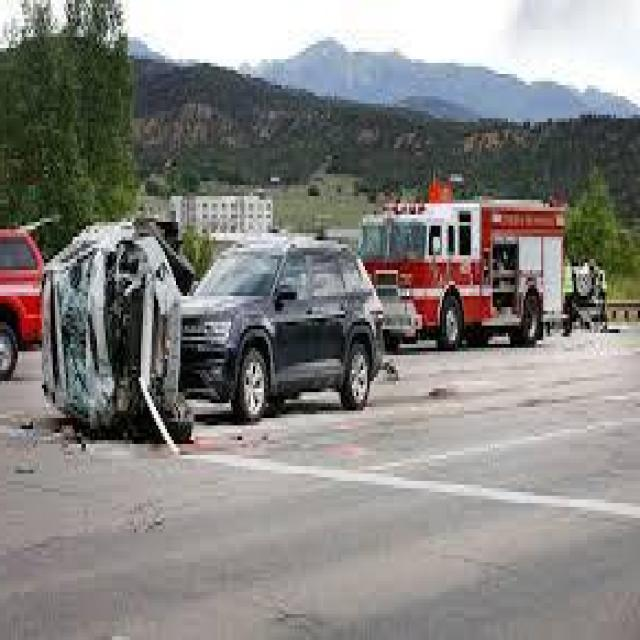accident: (38, 220, 390, 446)
